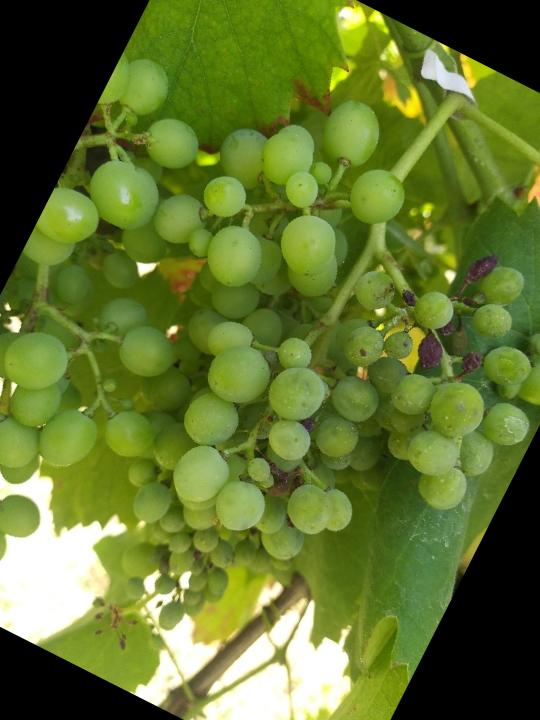grape: (24, 36, 540, 663)
